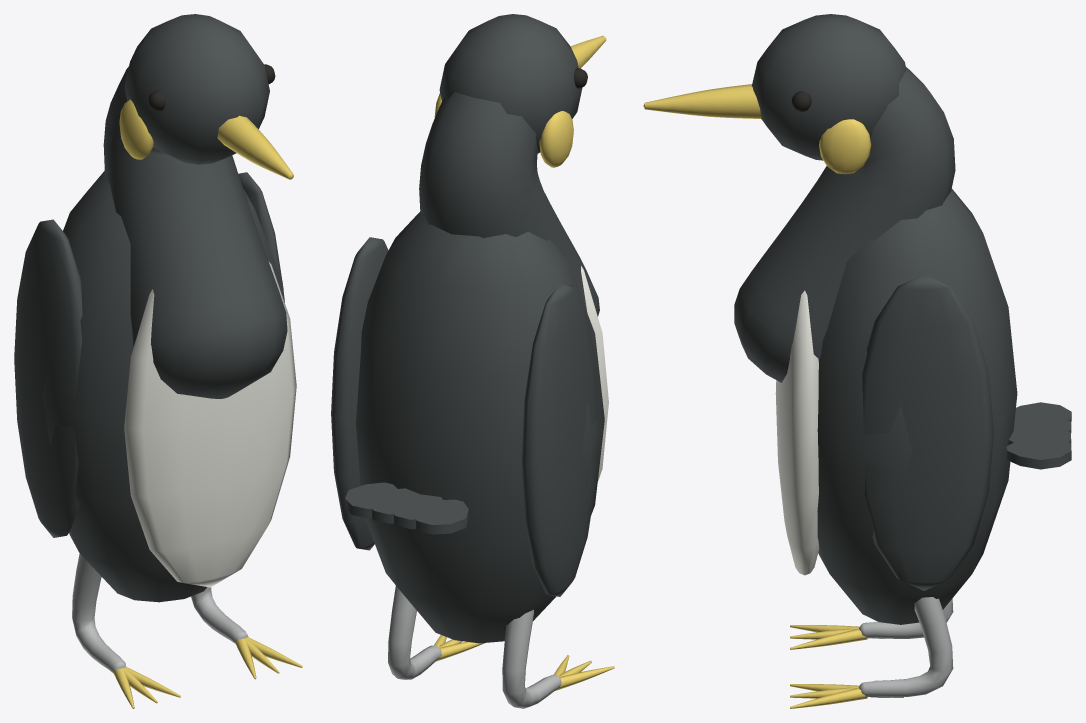
File: birds-and-flying-creatures-king-penguin-c3784bf3__20636.glb
3 views of the same model, side by side, from view 1: azimuth 30°, elevation 25°; view 2: azimuth 150°, elevation 25°; view 3: azimuth 270°, elevation 25° (orthographic).
Parts seen in each view (by area): view 1: king-penguin; view 2: king-penguin; view 3: king-penguin.
Part boxes in pixels (x1,y1,x2,y2): king-penguin: (14,14,302,708); king-penguin: (331,14,614,708); king-penguin: (643,14,1071,708).
Size of the model in its own units: 0.4002 by 1.07 by 0.6397.
